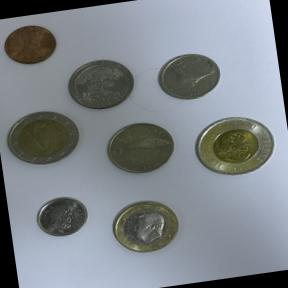1 Euro-B: (103, 190, 191, 260)
2 Euro-B: (0, 103, 84, 173)
Canada-10cent-B: (29, 188, 94, 242)
Canada-2Dollar-B: (182, 102, 286, 188)
Croatia-2Kune-B: (96, 112, 182, 182)
US-1cent-B: (0, 16, 62, 74)
US-25cent-B: (62, 51, 140, 116)
